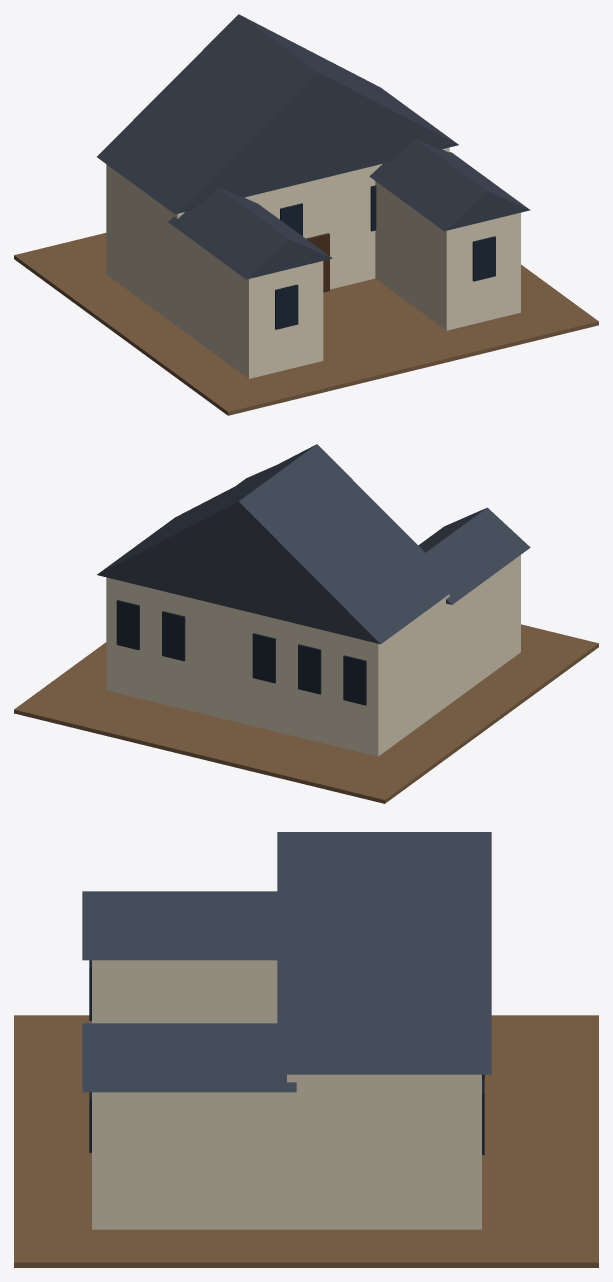
The model's file is bld_special_hospital_a03.glb.
3 views of the same model, one above another, from view 1: azimuth 30°, elevation 25°; view 2: azimuth 150°, elevation 25°; view 3: azimuth 270°, elevation 25° (orthographic). The views are drawn at different scales.
Parts seen in each view (by area): view 1: body; view 2: body; view 3: body.
Part boxes in pixels (x1=…): body: x1=14, y1=14, x2=598, y2=415; body: x1=14, y1=444, x2=598, y2=803; body: x1=14, y1=832, x2=598, y2=1267.
Size of what is drawn, in the model's own units: 15 by 8.83 by 15.
